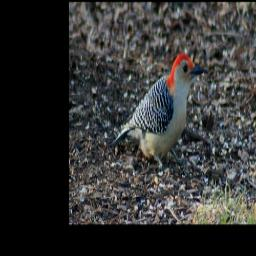Woodpecker: (113, 54, 206, 179)
